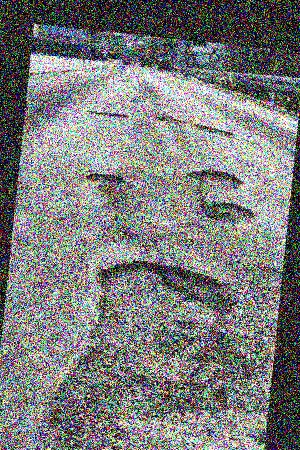pothole: (79, 253, 266, 433), (197, 195, 257, 226), (183, 165, 245, 191), (188, 121, 237, 138), (83, 170, 125, 184), (86, 107, 130, 118), (152, 112, 185, 125), (148, 92, 160, 101)
